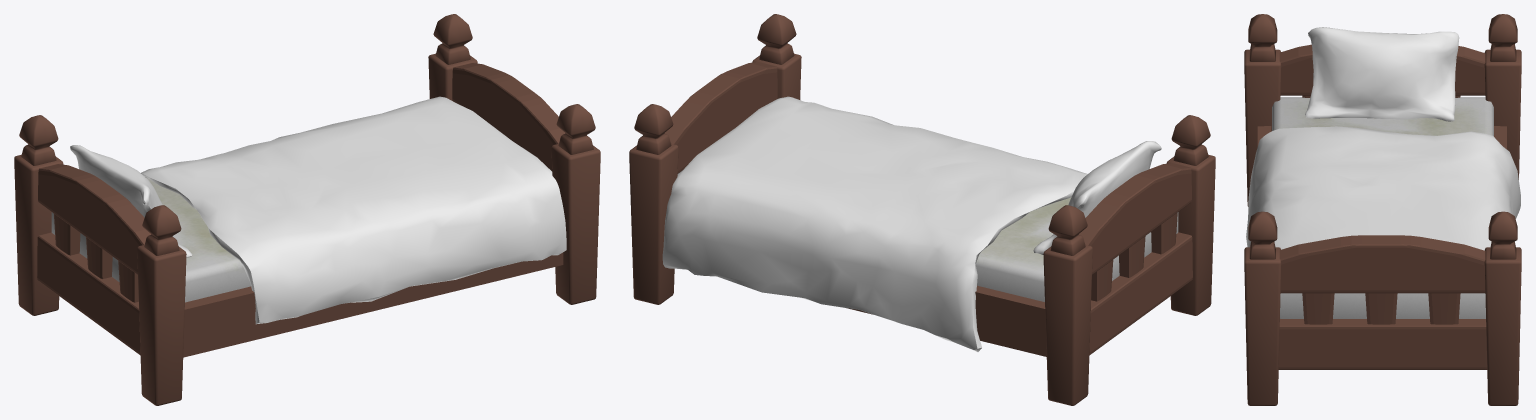
File: Bed.fbx
3 renders of one model, left to right at view 1: azimuth 30°, elevation 25°; view 2: azimuth 150°, elevation 25°; view 3: azimuth 270°, elevation 25°, orthographic. The views are drawn at different scales.
Parts seen in each view (by area): view 1: Pillow1_low.002; view 2: Pillow1_low.002; view 3: Pillow1_low.002.
Part boxes in pixels (left/top/right/bottom): Pillow1_low.002: left=14, top=14, right=600, bottom=405; Pillow1_low.002: left=629, top=14, right=1215, bottom=405; Pillow1_low.002: left=1244, top=14, right=1521, bottom=405.
Size of the model in its own units: 274 by 113 by 151.
